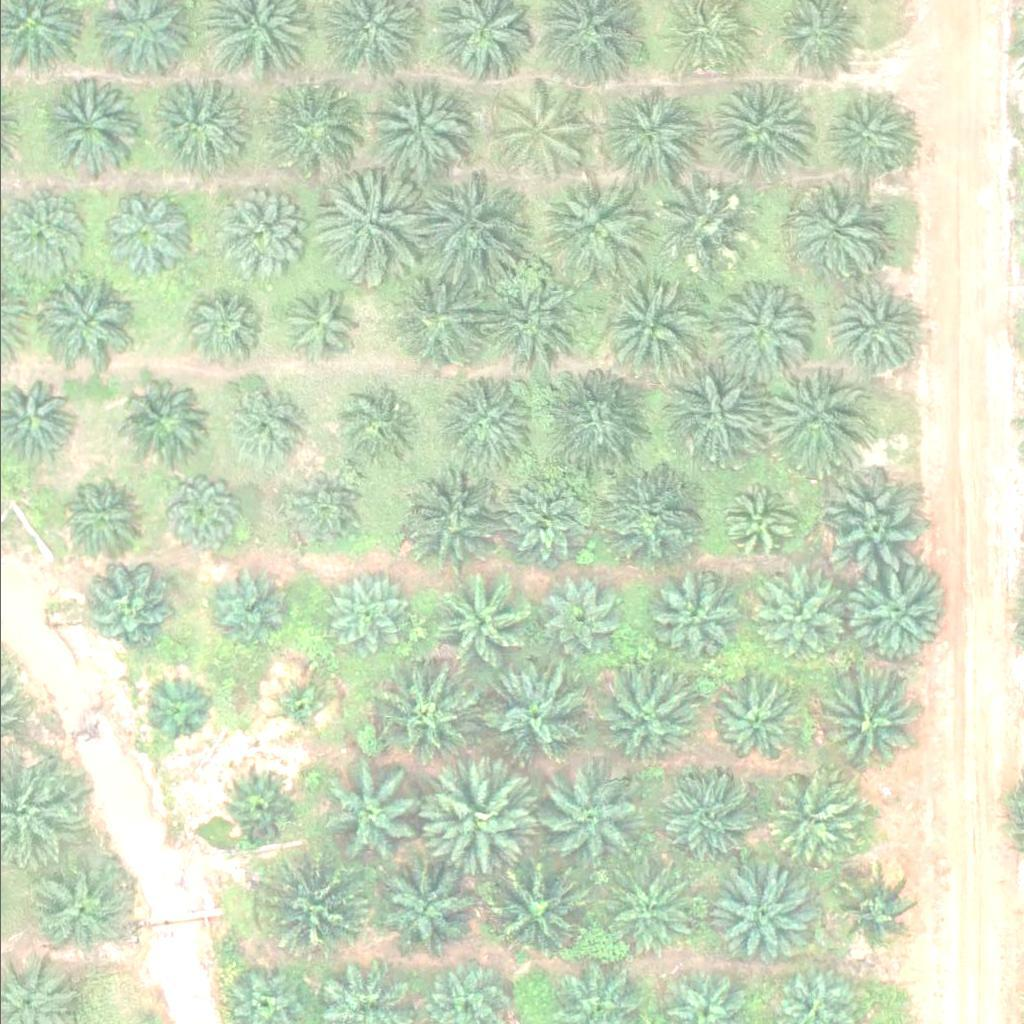Kelapa_Sawit: (587, 663, 701, 776), (592, 458, 705, 571), (422, 769, 535, 882), (313, 171, 427, 283), (405, 171, 519, 283), (811, 476, 925, 588), (527, 768, 641, 880), (364, 81, 477, 193), (761, 365, 874, 477), (653, 362, 766, 474), (540, 370, 653, 482), (478, 662, 591, 774), (376, 661, 489, 773), (313, 764, 426, 876), (707, 857, 820, 969), (482, 857, 595, 969), (261, 855, 374, 967), (710, 82, 811, 182), (486, 79, 587, 179), (256, 74, 357, 174), (141, 78, 242, 178), (33, 79, 134, 179), (786, 179, 887, 279), (638, 176, 739, 276), (823, 280, 924, 380), (594, 281, 695, 381), (478, 276, 579, 376), (386, 274, 487, 374), (435, 372, 536, 472), (850, 561, 951, 661), (744, 564, 845, 664), (431, 573, 532, 673), (813, 665, 914, 765), (768, 772, 869, 872), (605, 864, 706, 964), (371, 857, 472, 957), (27, 860, 128, 960), (596, 81, 696, 181), (95, 187, 195, 287), (540, 177, 640, 277), (705, 277, 805, 377), (31, 273, 131, 373), (409, 474, 509, 574), (655, 773, 755, 873), (175, 278, 264, 366), (322, 384, 410, 472), (820, 95, 908, 183), (657, 571, 745, 659), (536, 579, 624, 667), (316, 571, 404, 659), (77, 568, 165, 656), (50, 473, 138, 560), (157, 468, 245, 555), (278, 468, 366, 555), (269, 275, 357, 362), (218, 378, 306, 465), (118, 374, 206, 461), (206, 194, 294, 281), (711, 479, 799, 566), (494, 480, 582, 567), (210, 566, 298, 653), (704, 680, 792, 767), (832, 871, 920, 958), (221, 766, 297, 841), (139, 672, 214, 747), (262, 673, 325, 736)
